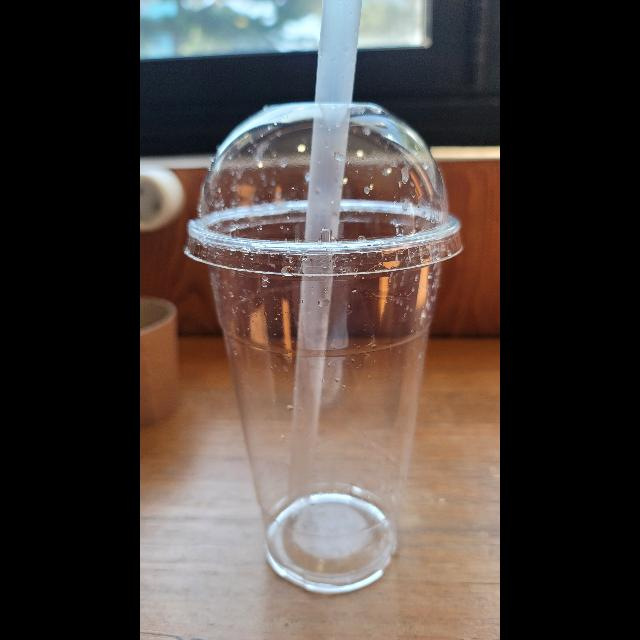plastic_cup: (181, 96, 464, 594)
plastic_cup_lid: (178, 100, 468, 276)
straw: (293, 0, 361, 508)
